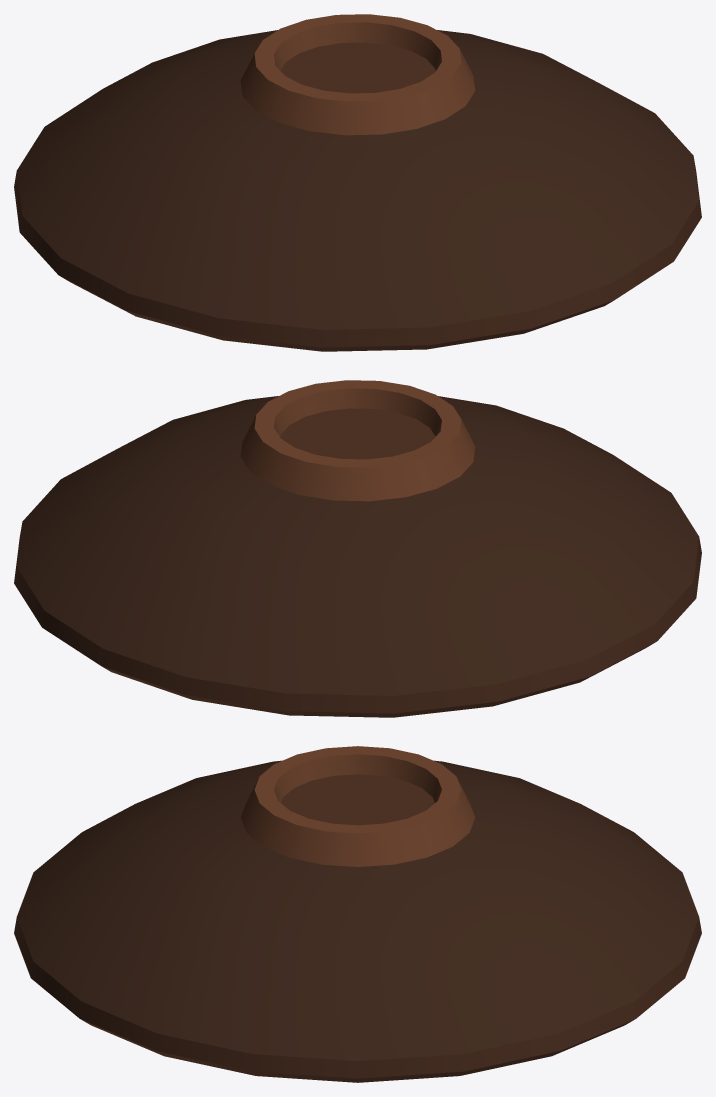
Rendered from SC_Home_Onggi_Lid.gltf.
3 renders of one model, top to bottom at view 1: azimuth 30°, elevation 25°; view 2: azimuth 150°, elevation 25°; view 3: azimuth 270°, elevation 25°, orthographic.
Visible parts, largest first — view 1: SC_Home_Onggi_Lid; view 2: SC_Home_Onggi_Lid; view 3: SC_Home_Onggi_Lid.
Boxes of the visible parts, box(x1,y1,x2,y2) form: SC_Home_Onggi_Lid: box(14, 14, 701, 351); SC_Home_Onggi_Lid: box(14, 380, 701, 717); SC_Home_Onggi_Lid: box(14, 746, 701, 1082).
Size of the model in its own units: 0.496 by 0.1221 by 0.496.
1 material, 1 textured.
